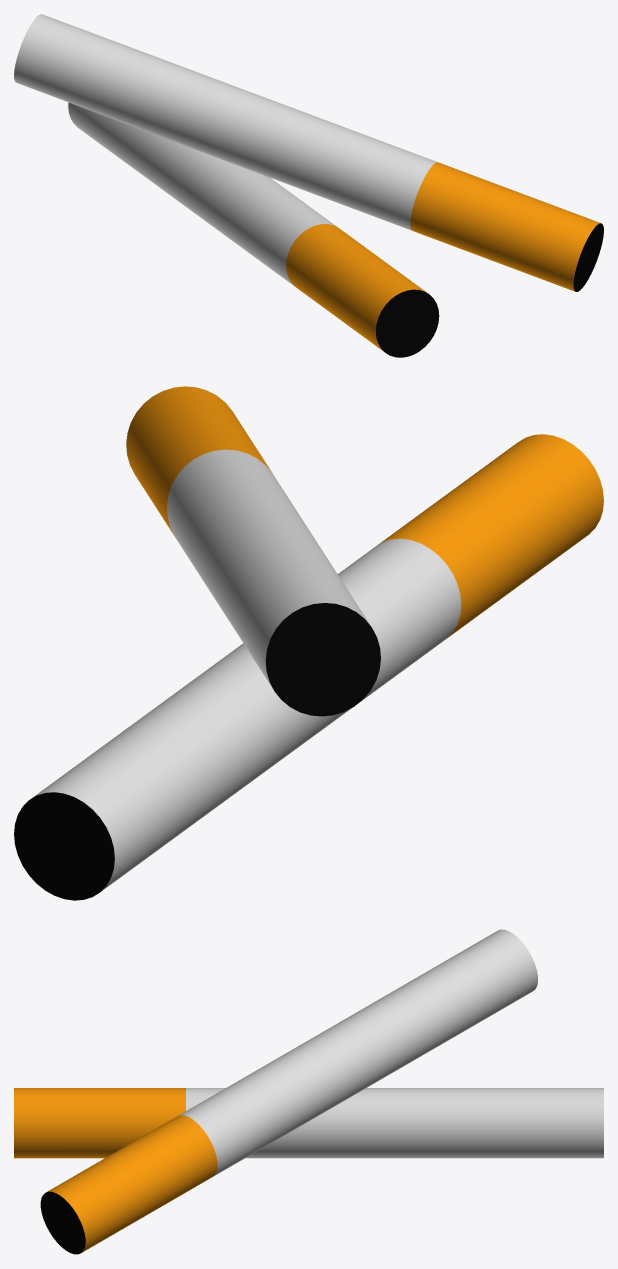
The model's file is papierosy.fbx.
The picture shows the model from 3 angles, top to bottom: view 1: azimuth 30°, elevation 25°; view 2: azimuth 150°, elevation 25°; view 3: azimuth 270°, elevation 25°; orthographic projection. The views are drawn at different scales.
Parts seen in each view (by area): view 1: Walec; view 2: Walec; view 3: Walec.
Boxes of the visible parts, x1=… form: Walec: x1=14, y1=14, x2=603, y2=357; Walec: x1=14, y1=386, x2=603, y2=900; Walec: x1=14, y1=929, x2=603, y2=1254.
Bounding box in the file's own units: 269 × 124 × 383.
